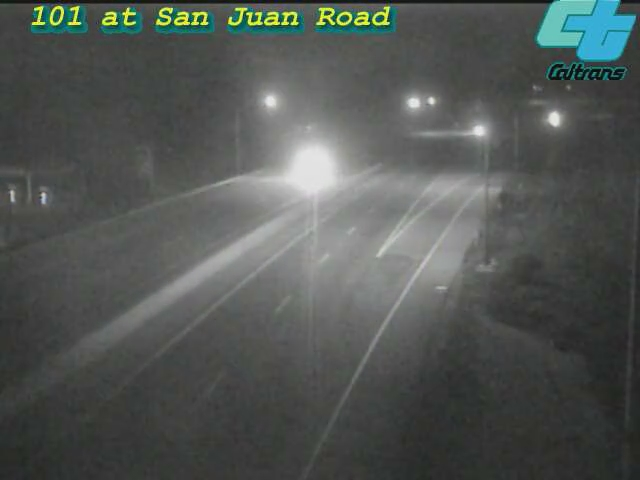vehicle: (262, 130, 342, 210), (455, 106, 505, 156), (526, 95, 576, 145)
